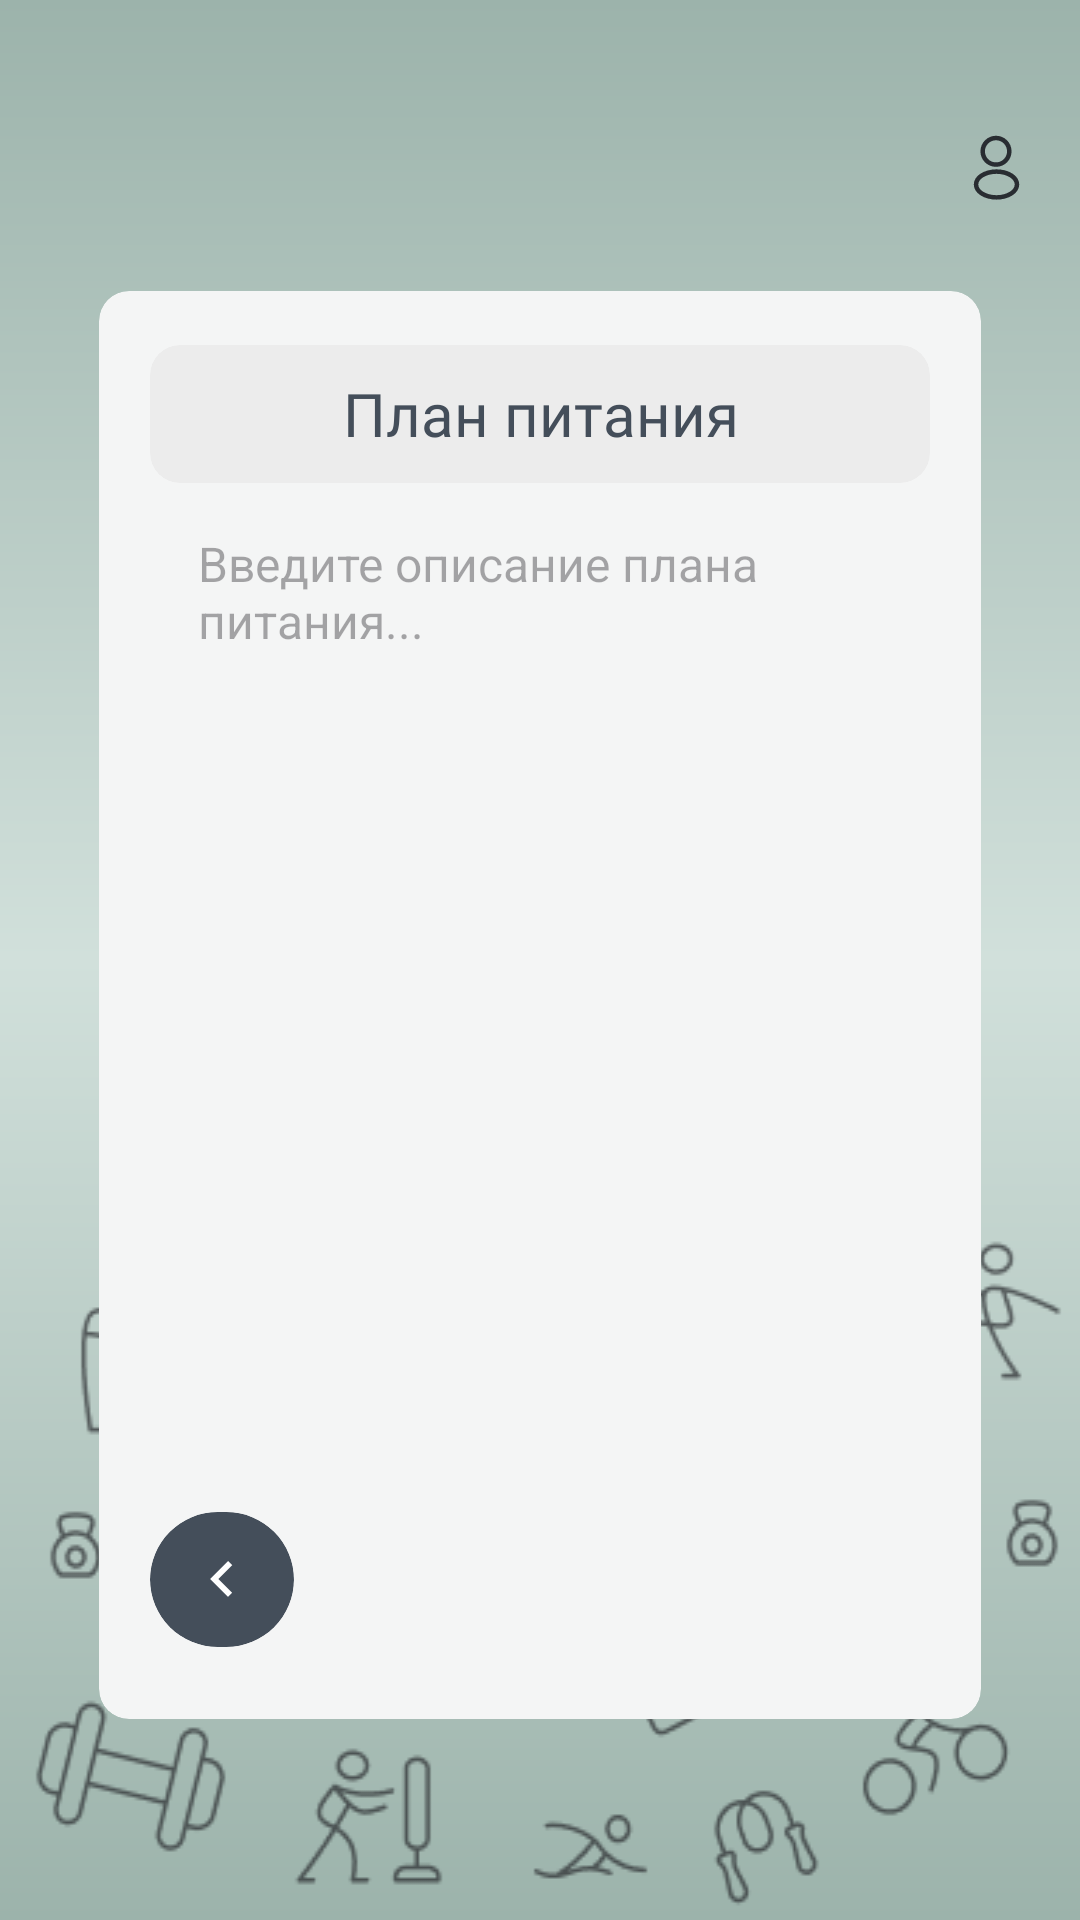

Named icons in this screenshot (1080x1920) and their centers, (x=x, y=y):
Назад: (x=221, y=1579)
Профиль пользователя: (x=996, y=167)
